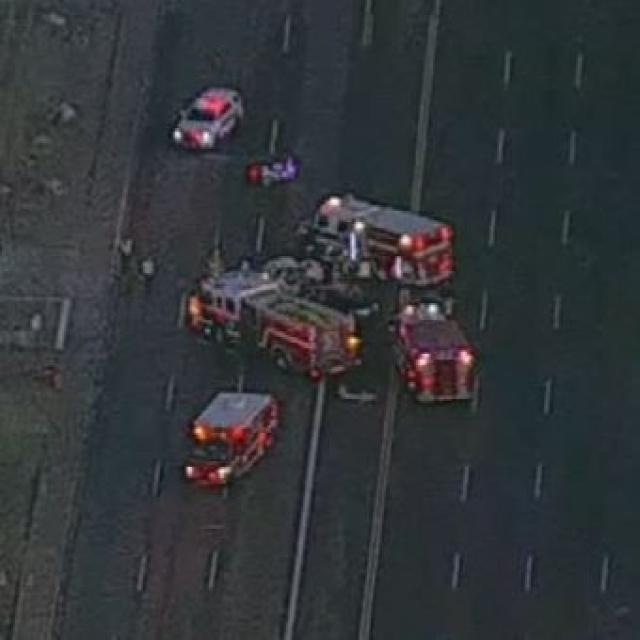traffic_incident: (258, 246, 380, 306)
